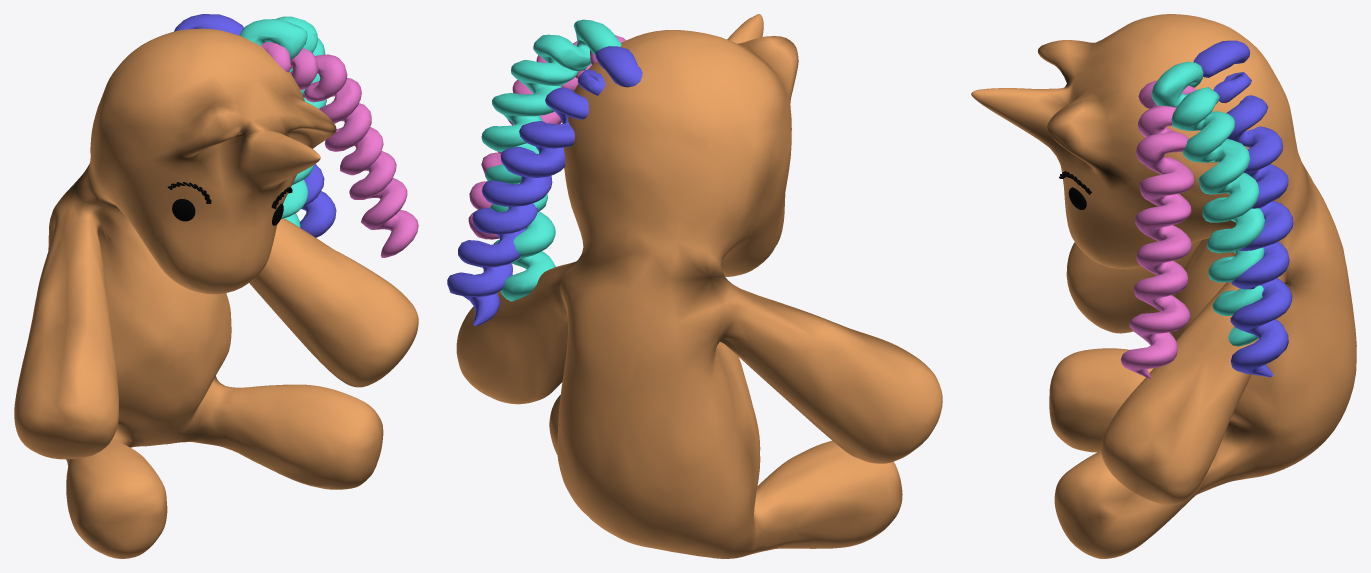
Rendered from unicorn_finale.fbx.
The picture shows the model from 3 angles, left to right: view 1: azimuth 30°, elevation 25°; view 2: azimuth 150°, elevation 25°; view 3: azimuth 270°, elevation 25°; orthographic projection. The views are drawn at different scales.
Visible parts, largest first — view 1: Sphere.006, NurbsPath, NurbsPath.004, NurbsPath.001; view 2: Sphere.006, NurbsPath.001, NurbsPath.004, NurbsPath; view 3: Sphere.006, NurbsPath.001, NurbsPath.004, NurbsPath.
Boxes of the visible parts, box(x1,y1,x2,y2) form: Sphere.006: box(14, 28, 418, 558); NurbsPath: box(261, 42, 418, 257); NurbsPath.004: box(240, 16, 326, 227); NurbsPath.001: box(174, 14, 336, 237); Sphere.006: box(456, 14, 942, 558); NurbsPath.001: box(447, 46, 642, 326); NurbsPath.004: box(481, 19, 621, 301); NurbsPath: box(468, 35, 625, 239); Sphere.006: box(971, 14, 1356, 558); NurbsPath.001: box(1193, 40, 1293, 377); NurbsPath.004: box(1151, 61, 1264, 346); NurbsPath: box(1120, 80, 1195, 378).
Size of the model in its own units: 28.83 by 30.42 by 22.03.
